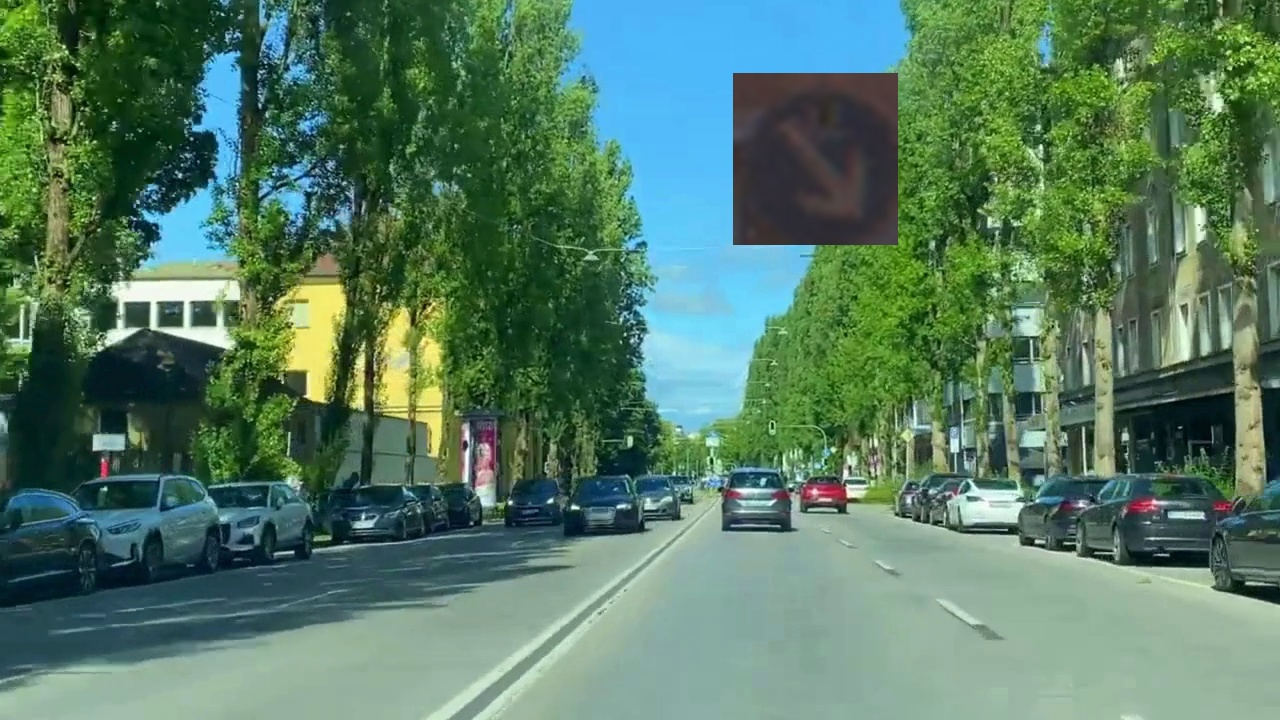Keep right: (733, 73, 898, 245)
